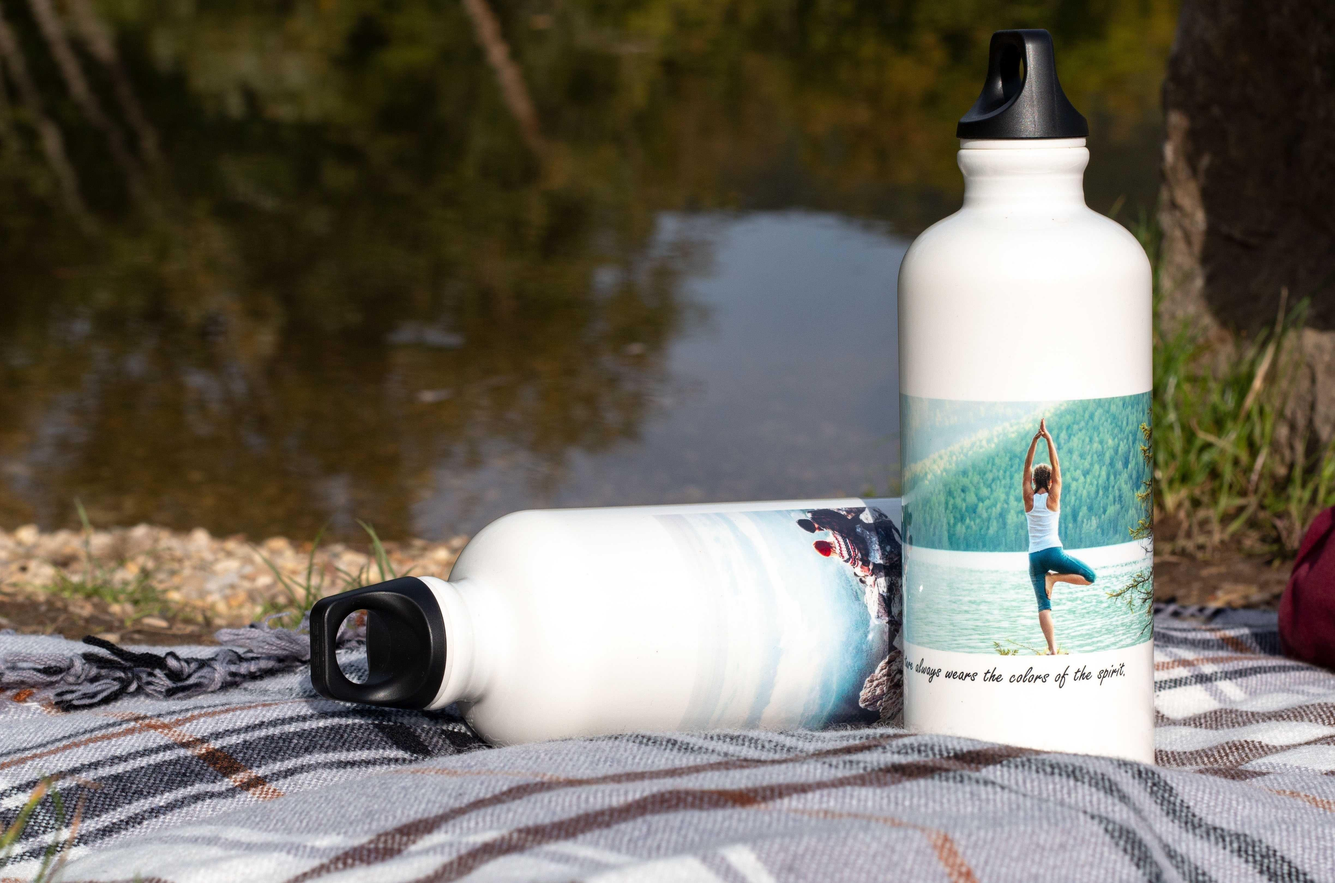gym bottle: (892, 26, 1163, 753), (306, 490, 906, 747)
